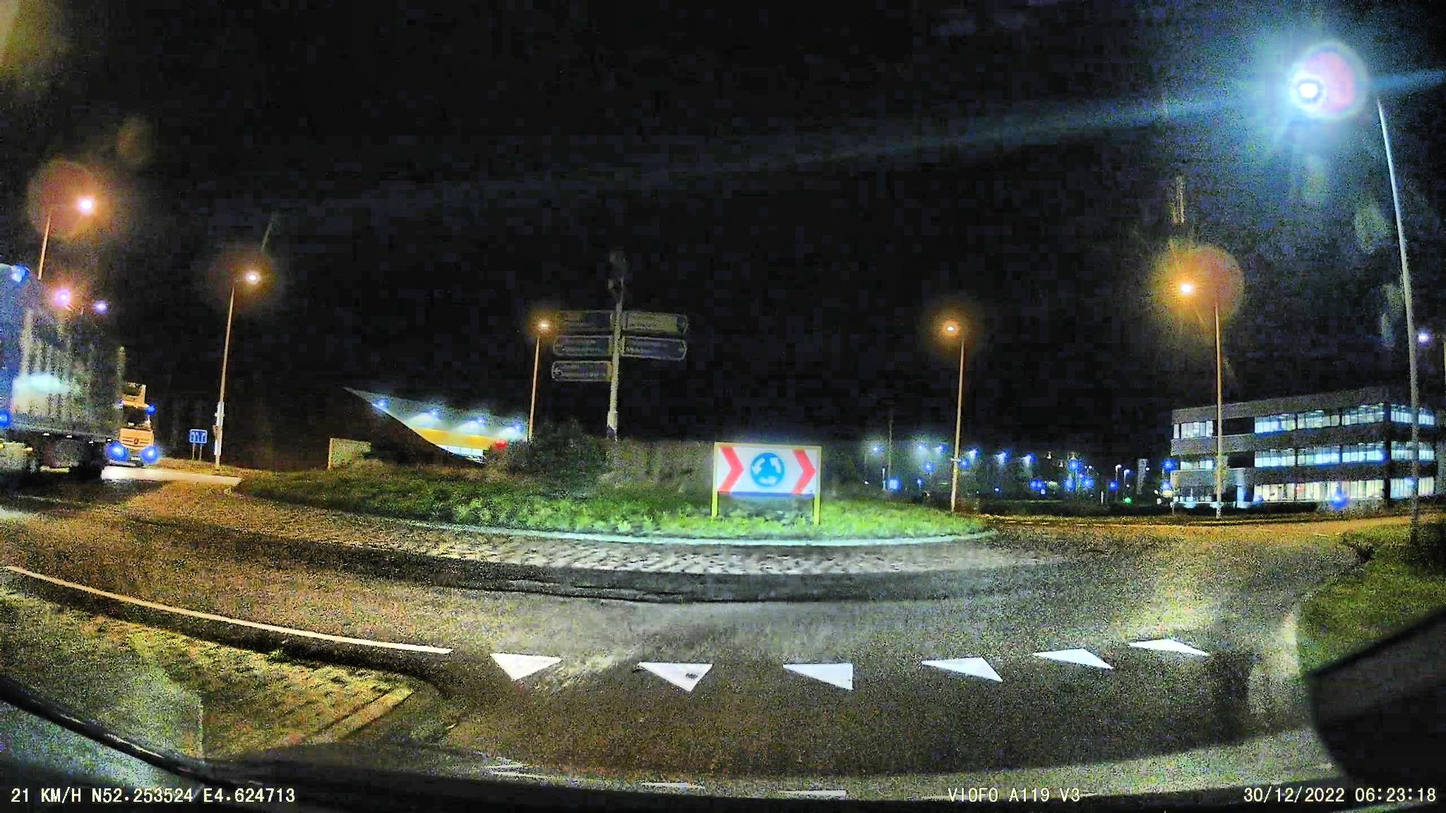Roads: (0, 521, 1363, 806)
